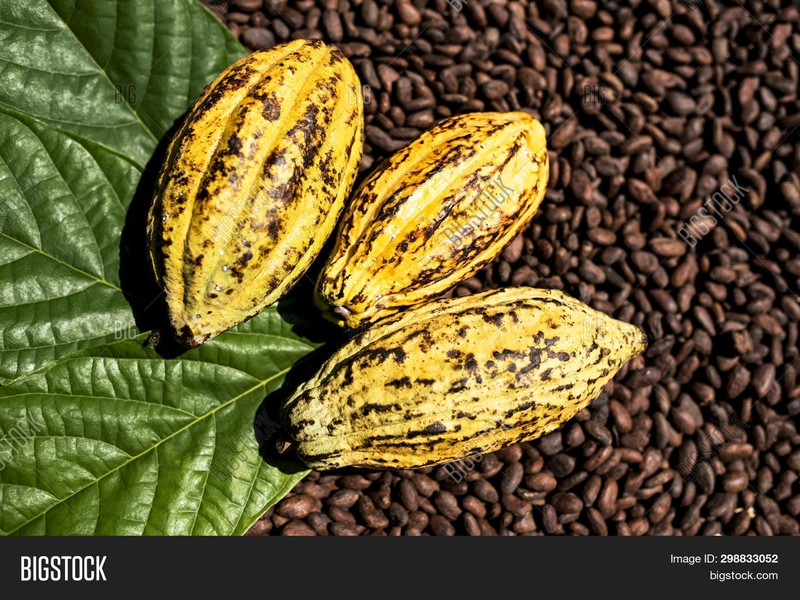Cacaopod: (139, 36, 370, 339)
